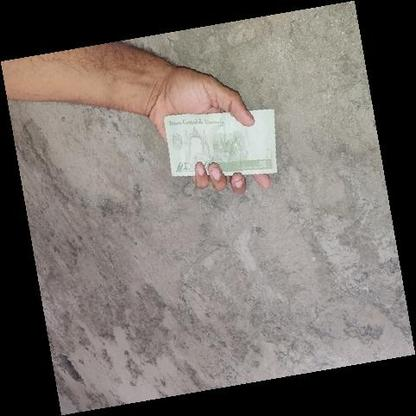fifty-back-vef: (163, 109, 278, 174)
